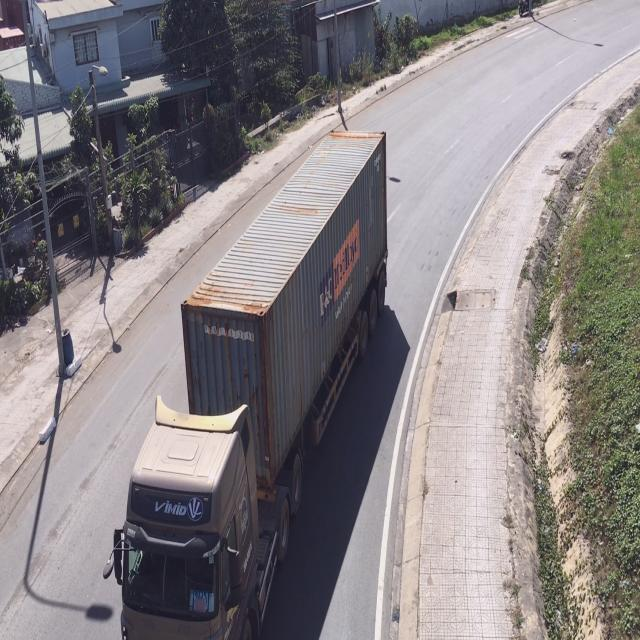truck: (109, 131, 388, 640)
